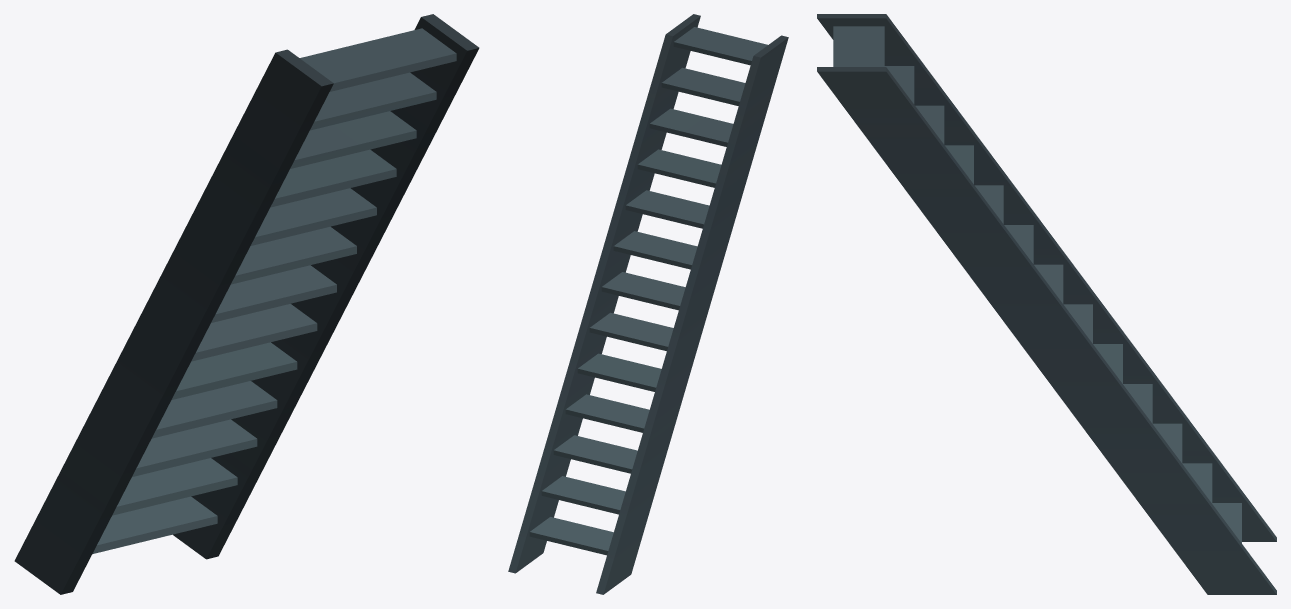
Rendered from FireEscape_B_2.glb.
3 views of the same model, side by side, from view 1: azimuth 30°, elevation 25°; view 2: azimuth 150°, elevation 25°; view 3: azimuth 270°, elevation 25° (orthographic). The views are drawn at different scales.
Parts seen in each view (by area): view 1: FireEscape_B_2; view 2: FireEscape_B_2; view 3: FireEscape_B_2.
Boxes of the visible parts, x1,y1,x2,y2 form: FireEscape_B_2: (14,14,479,594); FireEscape_B_2: (508,14,788,594); FireEscape_B_2: (817,14,1276,594).
Size of the model in its own units: 0.7675 by 3.25 by 2.59.
Materials: 1 (1 with a texture image).
